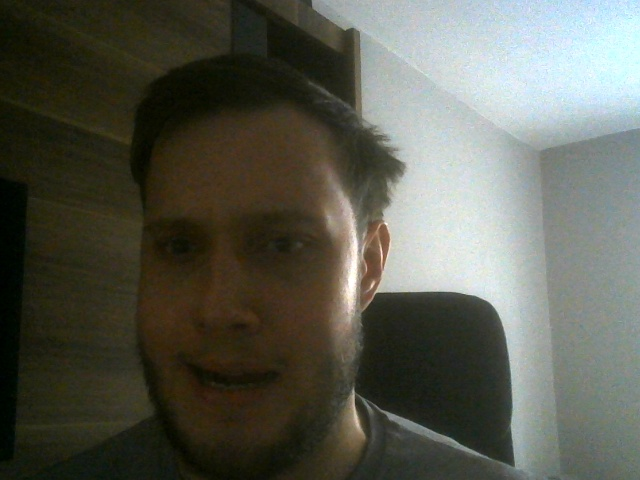angry: (134, 56, 391, 474)
